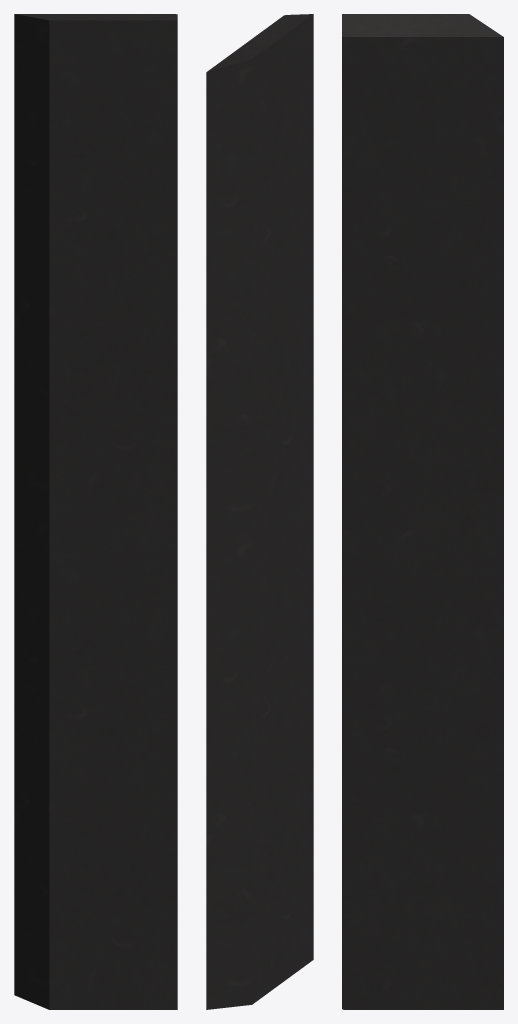
File: A13.1.1 H.WALL. PNL 4681 CR.D.fbx
3 views of the same model, side by side, from view 1: azimuth 90°, elevation 25°; view 2: azimuth 150°, elevation 25°; view 3: azimuth 270°, elevation 25° (orthographic). The views are drawn at different scales.
Parts seen in each view (by area): view 1: Model; view 2: Model; view 3: Model.
Part boxes in pixels (left/top/right/bottom): Model: left=14, top=14, right=177, bottom=1009; Model: left=206, top=14, right=313, bottom=1009; Model: left=342, top=14, right=503, bottom=1009.
Size of the model in its own units: 150 by 4681 by 700.
